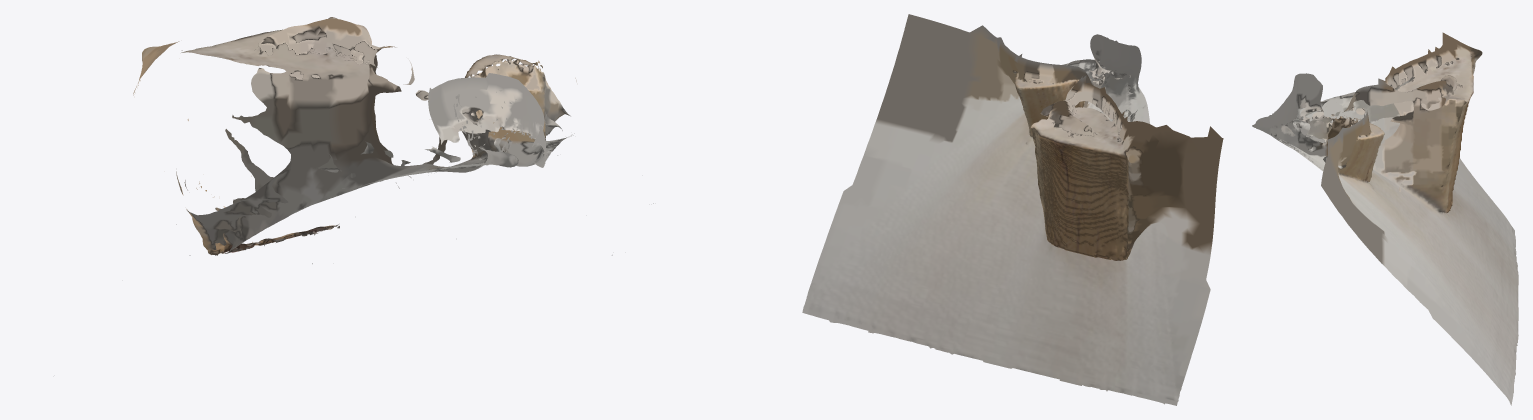
The picture shows the model from 3 angles, left to right: view 1: azimuth 30°, elevation 25°; view 2: azimuth 150°, elevation 25°; view 3: azimuth 270°, elevation 25°; orthographic projection. The views are drawn at different scales.
Bounding box in the file's own units: 0.00154 × 0.000938 × 0.000988.
